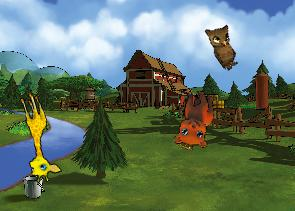bear: (172, 89, 214, 148)
giraffe: (8, 90, 63, 185)
owl: (200, 18, 249, 72)
